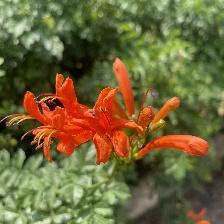honeysuckle: (4, 89, 99, 163)
